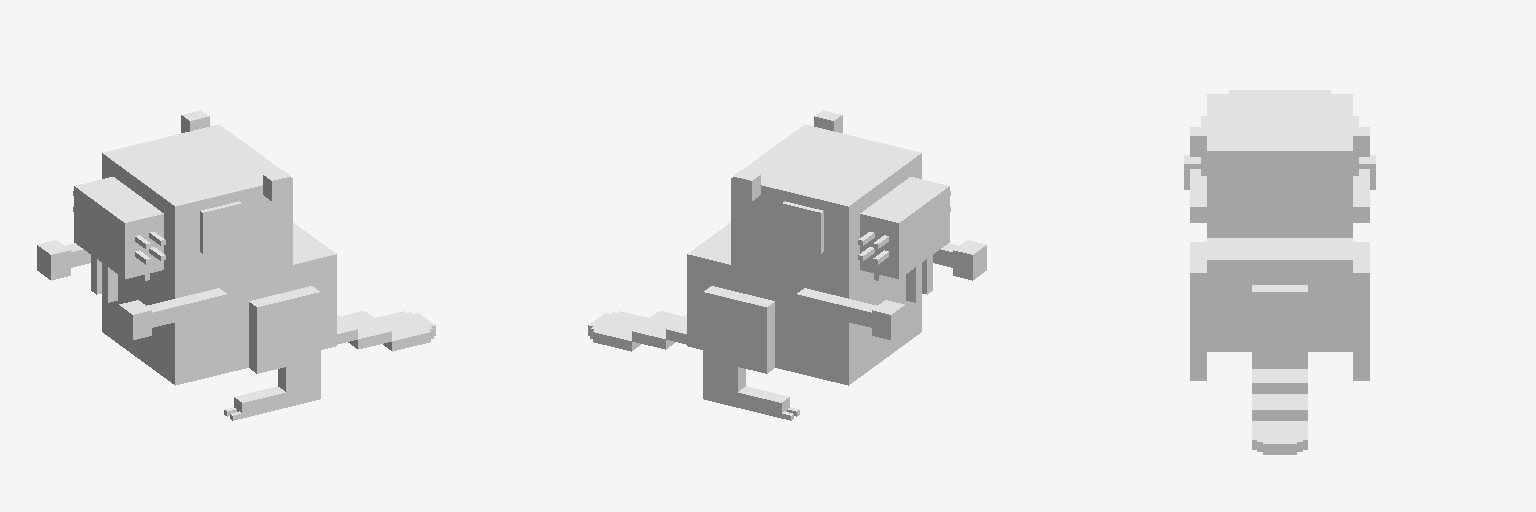
The model's file is Bober.obj.
3 views of the same model, side by side, from view 1: azimuth 30°, elevation 25°; view 2: azimuth 150°, elevation 25°; view 3: azimuth 270°, elevation 25° (orthographic).
Parts seen in each view (by area): view 1: object 1; view 2: object 1; view 3: object 1.
Part boxes in pixels (left/top/right/bottom): object 1: left=37, top=110, right=435, bottom=420; object 1: left=588, top=110, right=986, bottom=420; object 1: left=1184, top=90, right=1375, bottom=454.
Size of the model in its own units: 7 by 4.5 by 3.4.